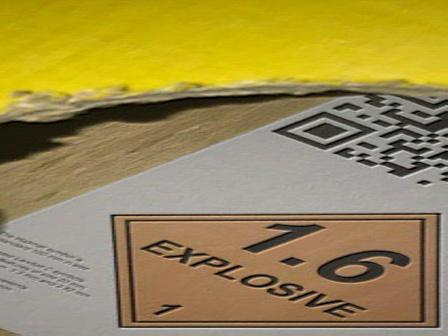explosive: (110, 213, 441, 332)
